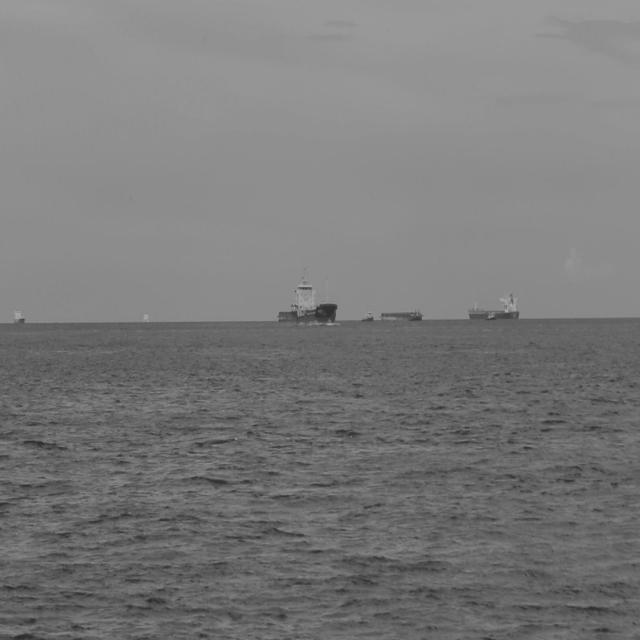ship: (276, 270, 336, 328), (466, 292, 520, 326), (378, 308, 422, 328), (9, 308, 23, 329)
